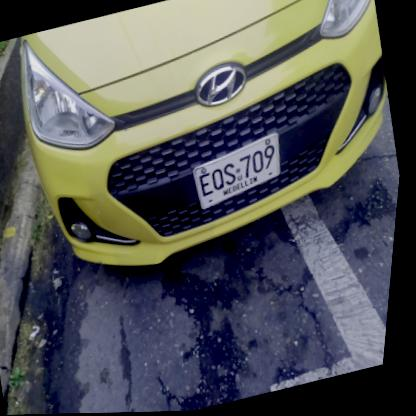placa: (184, 133, 299, 216)
